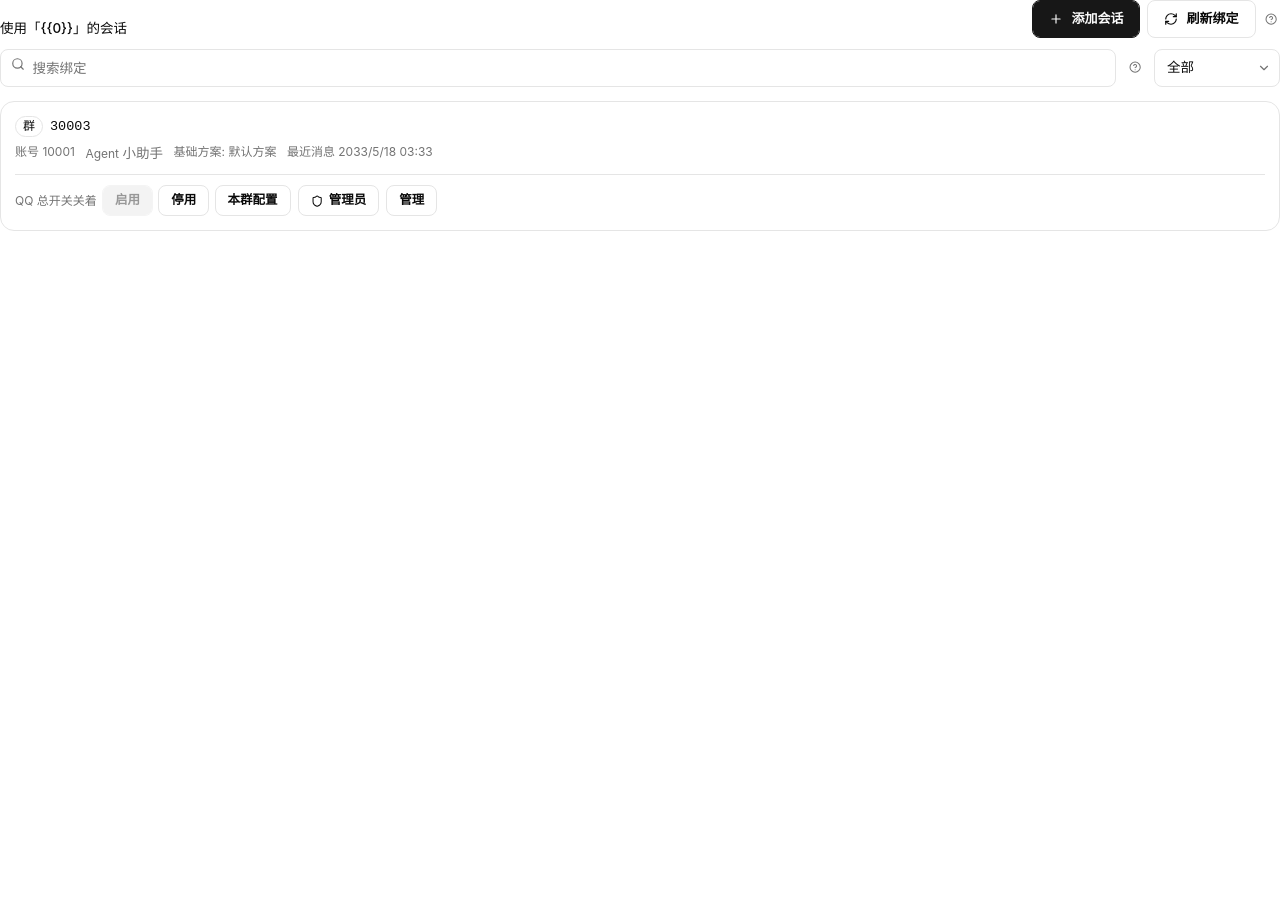
Test: 使用会话绑定视图 › 只列本方案的绑定，管理入口打开 BindingEditor 且不写任何绑定
Check: the text "30003" is shown, box [50,117,90,136]
Check: the text "小助手" is shown, box [122,144,163,163]
Click the button "管理": (412, 201) [386,185,437,216]
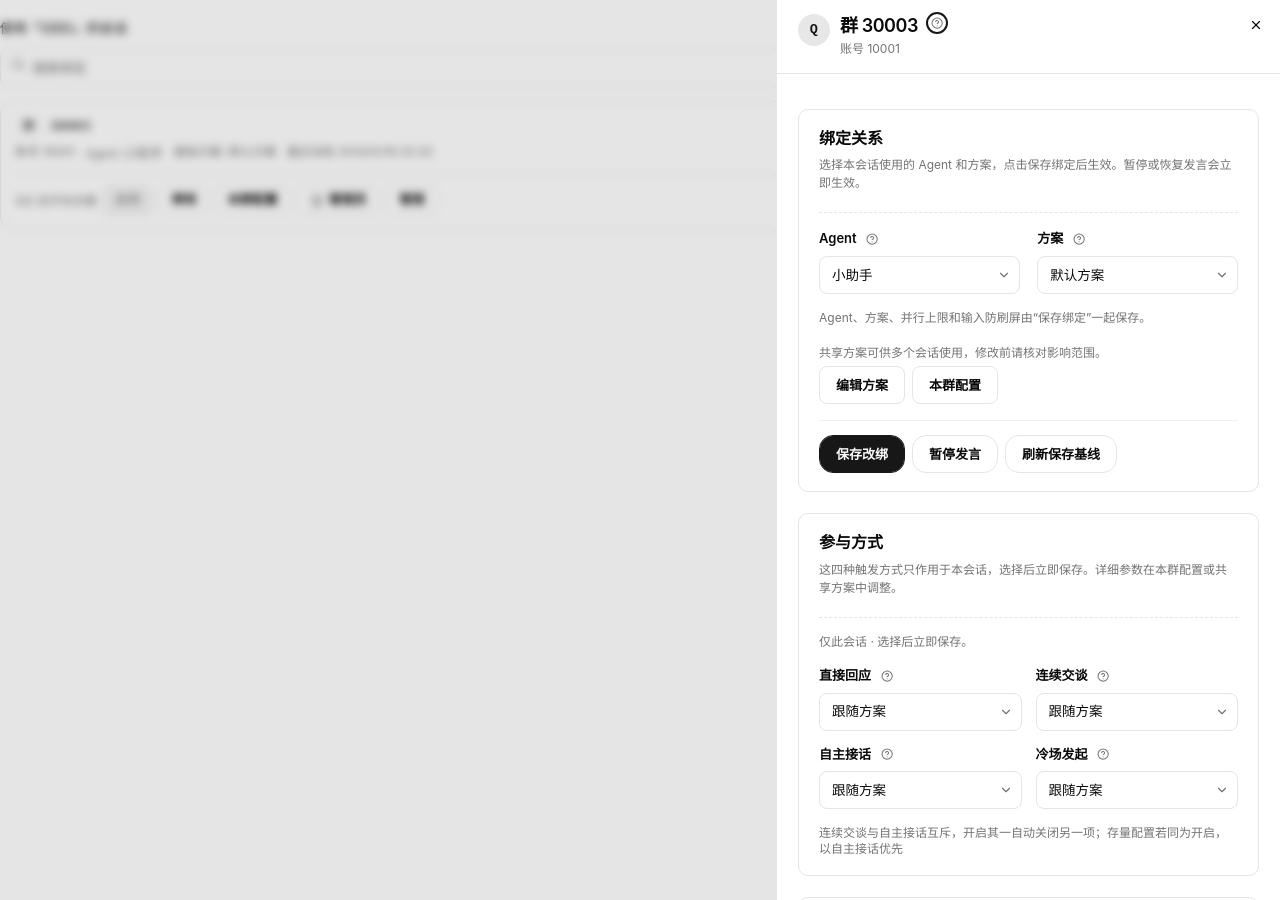
Check: the heading "群 30003" is shown, box [840,14,918,37]
Check: the button "保存改绑" is shown, box [819,436,905,474]
